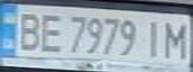7: (63, 11, 87, 54), (100, 15, 121, 56)
9: (81, 12, 106, 55), (118, 16, 142, 57)
B: (9, 8, 45, 52)
E: (33, 9, 66, 53)
I: (139, 17, 169, 59)
M: (160, 17, 193, 60)
